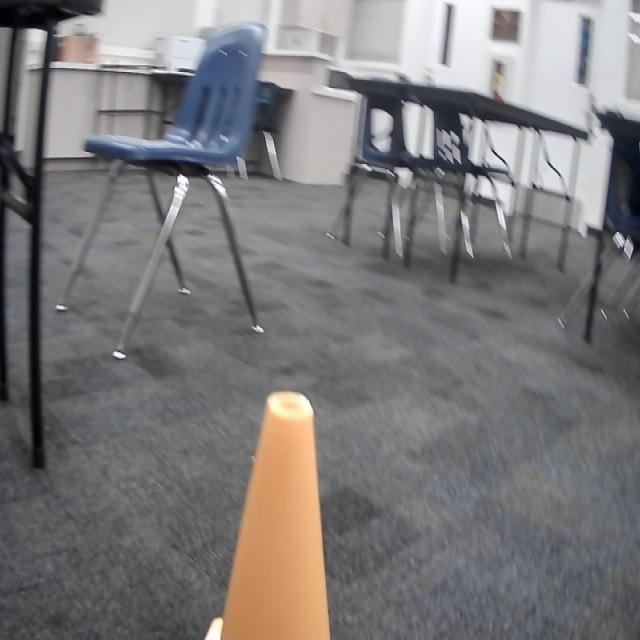cone: (198, 392, 331, 640)
